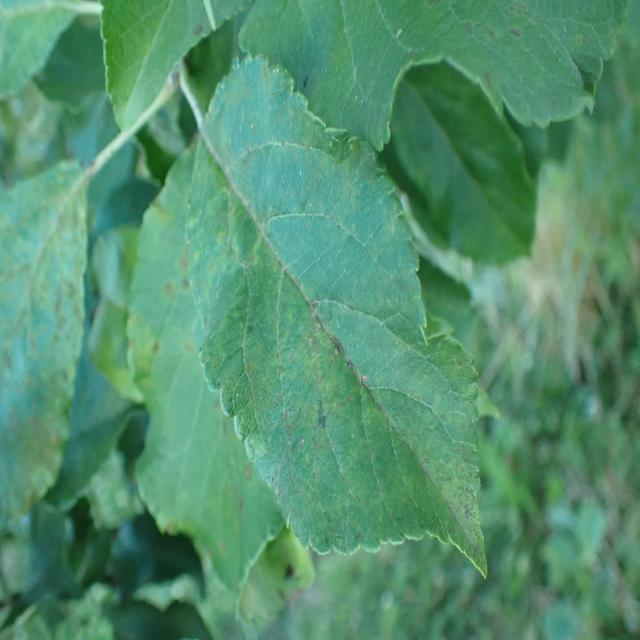scab: (188, 71, 467, 567), (106, 192, 282, 602), (0, 129, 98, 569), (446, 0, 576, 115)
